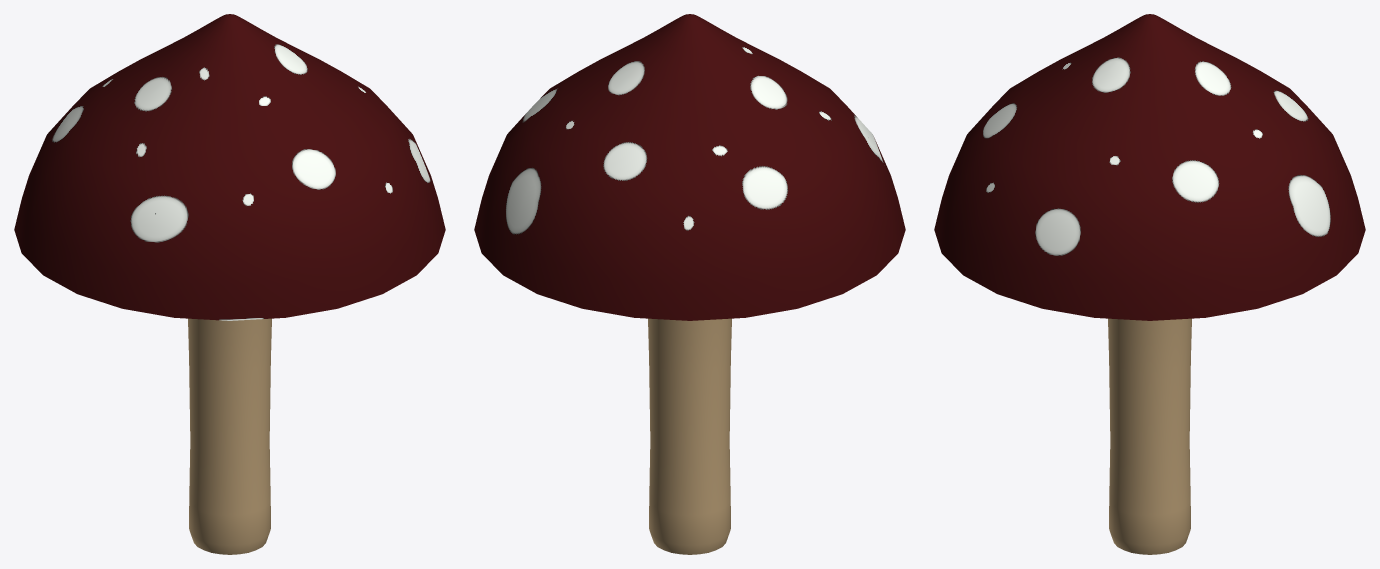
File: mush2.fbx
3 views of the same model, side by side, from view 1: azimuth 30°, elevation 25°; view 2: azimuth 150°, elevation 25°; view 3: azimuth 270°, elevation 25° (orthographic).
Parts seen in each view (by area): view 1: Cylinder.001; view 2: Cylinder.001; view 3: Cylinder.001.
Part boxes in pixels (x1,y1,x2,y2): Cylinder.001: (14, 14, 445, 554); Cylinder.001: (474, 14, 905, 554); Cylinder.001: (934, 14, 1365, 554).
Bounding box in the file's own units: 480 × 646 × 480.
